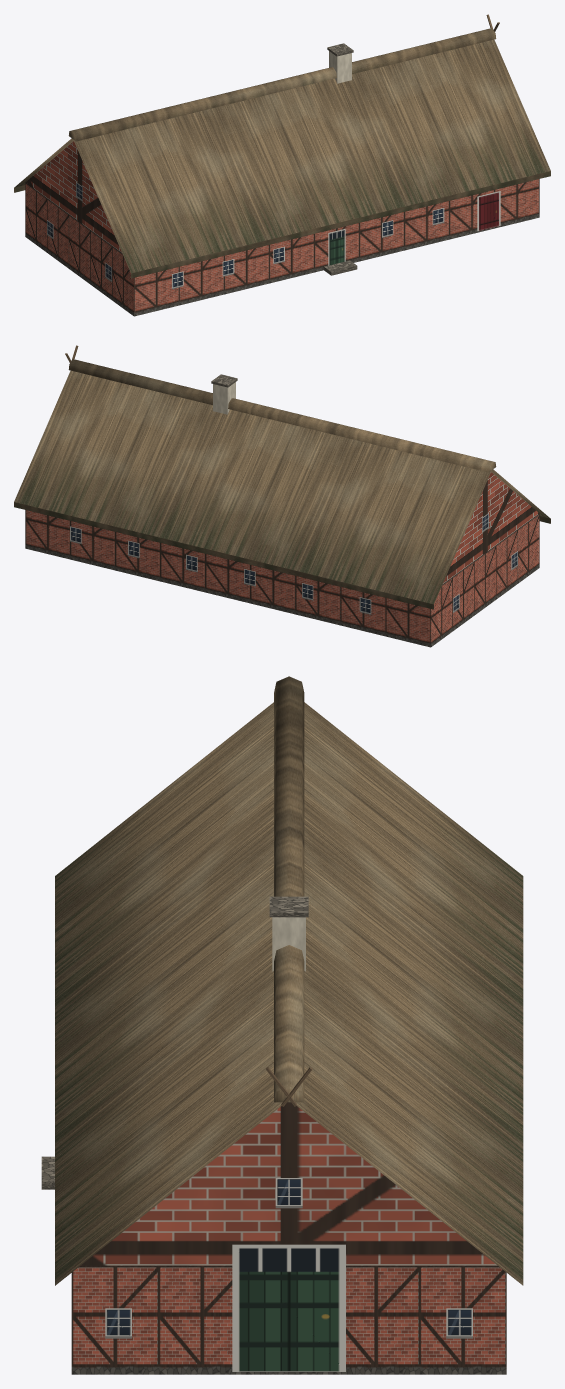
The model's file is SM_Farm_Niedersachsen.fbx.
The picture shows the model from 3 angles, top to bottom: view 1: azimuth 30°, elevation 25°; view 2: azimuth 150°, elevation 25°; view 3: azimuth 270°, elevation 25°; orthographic projection. The views are drawn at different scales.
Visible parts, largest first — view 1: SM_Farm_Niedersachsen; view 2: SM_Farm_Niedersachsen; view 3: SM_Farm_Niedersachsen.
Boxes of the visible parts, x1,y1,x2,y2 form: SM_Farm_Niedersachsen: [14, 14, 550, 316]; SM_Farm_Niedersachsen: [14, 345, 550, 647]; SM_Farm_Niedersachsen: [41, 676, 523, 1374].
Size of the model in its own units: 2911 by 1440 by 1084.
Materials: 1 (1 with a texture image).
